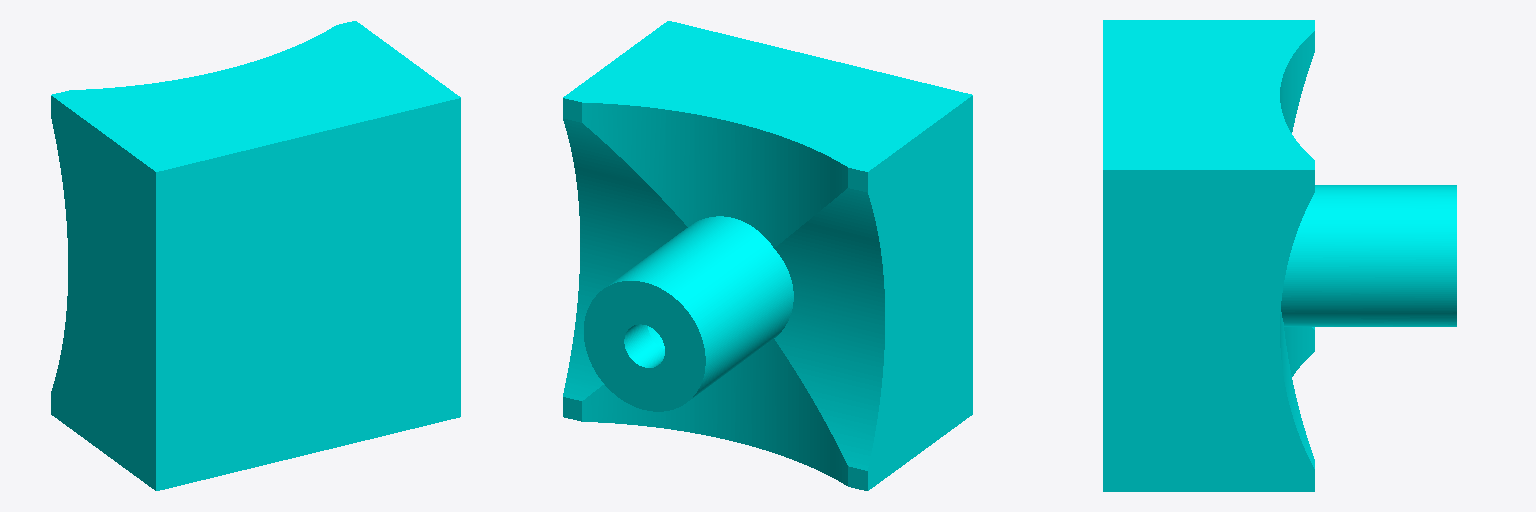
URDF robot description (centre04):
<robot name="centre04">
  <link name="centre04">
    <contact>
      <rolling_friction value="0.001"/>
      <spinning_friction value="0.001"/>
    </contact>
    <visual>
      <origin rpy="0 0 0" xyz="0 0 0"/>
      <geometry>
		<mesh filename="centre04.stl" scale="0.001 0.001 0.001"/>
      </geometry>
      <material name="cyan">
        <color rgba="0 1.0 1.0 1.0"/>
      </material>
    </visual>
    <collision>
      <origin rpy="0 0 0" xyz="0 0 0"/>
      <geometry>
	    <mesh filename="centre04.stl" scale="0.001 0.001 0.001"/>
      </geometry>
    </collision>
    </link>
</robot>

--- Facts derived from the render (not from the file) ---
Views: 3 orthographic renders of the robot side by side, from view 1: azimuth 30°, elevation 25°; view 2: azimuth 150°, elevation 25°; view 3: azimuth 270°, elevation 25°.
Robot: centre04 — 1 links, 0 joints (none); root link centre04; default pose: all joints at 0.
Links seen in each view (by area): view 1: centre04; view 2: centre04; view 3: centre04.
Boxes of the visible links, x1,y1,x2,y2 form: centre04: (51, 21, 460, 490); centre04: (563, 21, 972, 490); centre04: (1103, 20, 1456, 491).
Size in the robot's own frame: 0.019 by 0.0191 by 0.019 metres.
1 mesh visuals loaded from 1 distinct referenced files (1 binary STL).